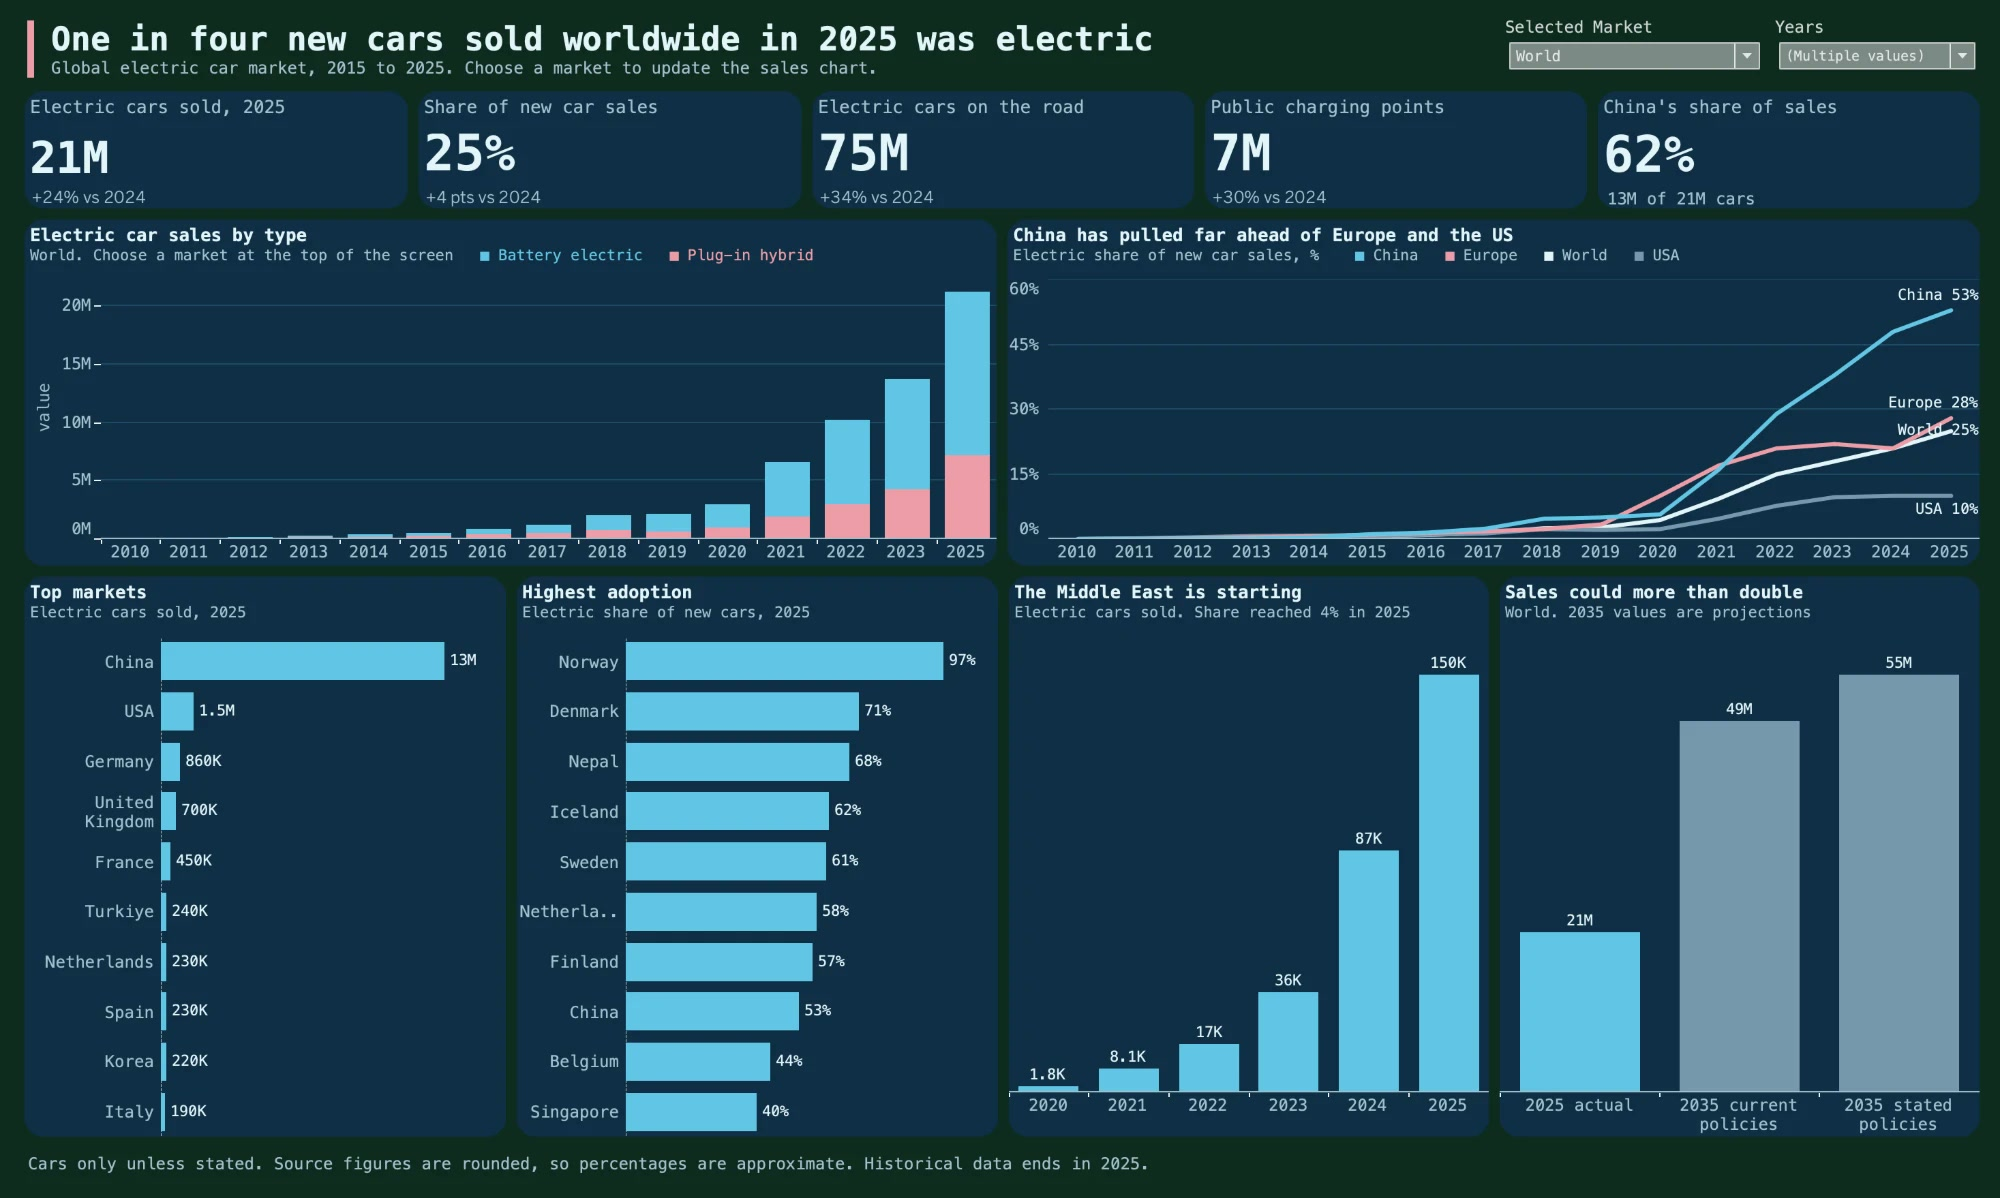

Layout of this report page (visuals, bound fields, positions):
{"tool":"tableau","page":{"name":"EV Dashboard","canvas":[1000,1000],"units":"permille","ordinal":0},"visuals":[{"type":"blank","box":[9.7,19.1,11.8,73.8]},{"type":"text","box":[21.6,19.1,721,73.8]},{"type":"parameter","param":"[Parameters].[Parameter 1]","box":[742.5,19.1,137.8,73.8]},{"type":"filter","title":"Sales Type","param":"[federated.0evmarketclean0000000000000].[none:year:ok]","box":[880.3,19.1,110,73.8]},{"type":"worksheet","title":"KPI Sales","mark":"Automatic","box":[9.7,92.9,196.2,128.4]},{"type":"worksheet","title":"KPI Share","mark":"Automatic","box":[206,92.9,196.2,128.4]},{"type":"worksheet","title":"KPI Stock","mark":"Automatic","box":[402.2,92.9,196.2,128.4]},{"type":"worksheet","title":"KPI Charging","mark":"Automatic","box":[598.5,92.9,196.2,128.4]},{"type":"worksheet","title":"KPI China","mark":"Automatic","box":[794.7,92.9,195.6,128.4]},{"type":"worksheet","title":"Sales Type","mark":"Bar","rows":["value"],"cols":["year"],"box":[9.7,221.3,490.6,357.9]},{"type":"worksheet","title":"Share Lines","mark":"Line","rows":["value"],"cols":["year"],"box":[500.4,221.3,489.9,357.9]},{"type":"worksheet","title":"Top Markets","mark":"Bar","rows":["region_country"],"cols":["value"],"box":[9.7,579.2,245.7,357.9]},{"type":"worksheet","title":"Highest Adoption","mark":"Bar","rows":["region_country"],"cols":["value"],"box":[255.4,579.2,245,357.9]},{"type":"worksheet","title":"Middle East","mark":"Bar","rows":["value"],"cols":["year"],"box":[500.4,579.2,245,357.9]},{"type":"worksheet","title":"Outlook","mark":"Bar","rows":["value"],"cols":["Calculation_1006"],"box":[745.3,579.2,245,357.9]},{"type":"text","box":[9.7,937.1,980.5,43.7]}]}

Visuals, with their boxes on the dashboard's canvas, which has no fixed pixel size, in thousandths of its width and height (x1, y1, x2, y2). These are canvas units, not pixel positions in the 2000x1198 screenshot, which may show the page scaled, cropped or inside an application window:
blank: <region>10, 19, 22, 93</region>
text: <region>22, 19, 743, 93</region>
parameter: <region>742, 19, 880, 93</region>
"Sales Type" filter: <region>880, 19, 990, 93</region>
"KPI Sales" worksheet: <region>10, 93, 206, 221</region>
"KPI Share" worksheet: <region>206, 93, 402, 221</region>
"KPI Stock" worksheet: <region>402, 93, 598, 221</region>
"KPI Charging" worksheet: <region>598, 93, 795, 221</region>
"KPI China" worksheet: <region>795, 93, 990, 221</region>
"Sales Type" worksheet (Bar marks): <region>10, 221, 500, 579</region>
"Share Lines" worksheet (Line marks): <region>500, 221, 990, 579</region>
"Top Markets" worksheet (Bar marks): <region>10, 579, 255, 937</region>
"Highest Adoption" worksheet (Bar marks): <region>255, 579, 500, 937</region>
"Middle East" worksheet (Bar marks): <region>500, 579, 745, 937</region>
"Outlook" worksheet (Bar marks): <region>745, 579, 990, 937</region>
text: <region>10, 937, 990, 981</region>
